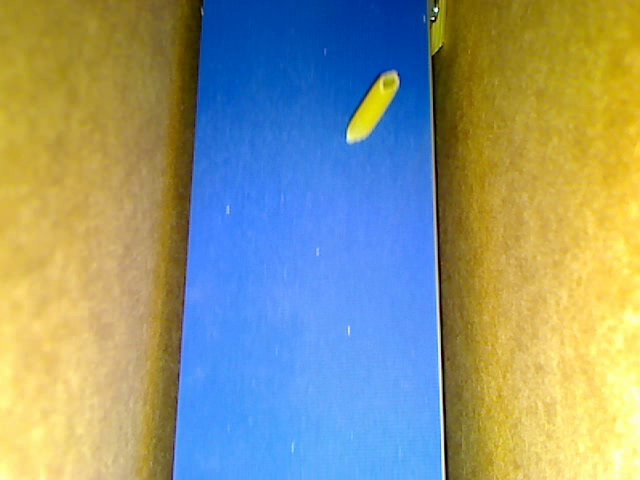penne: (343, 68, 398, 147), (426, 1, 447, 58)
